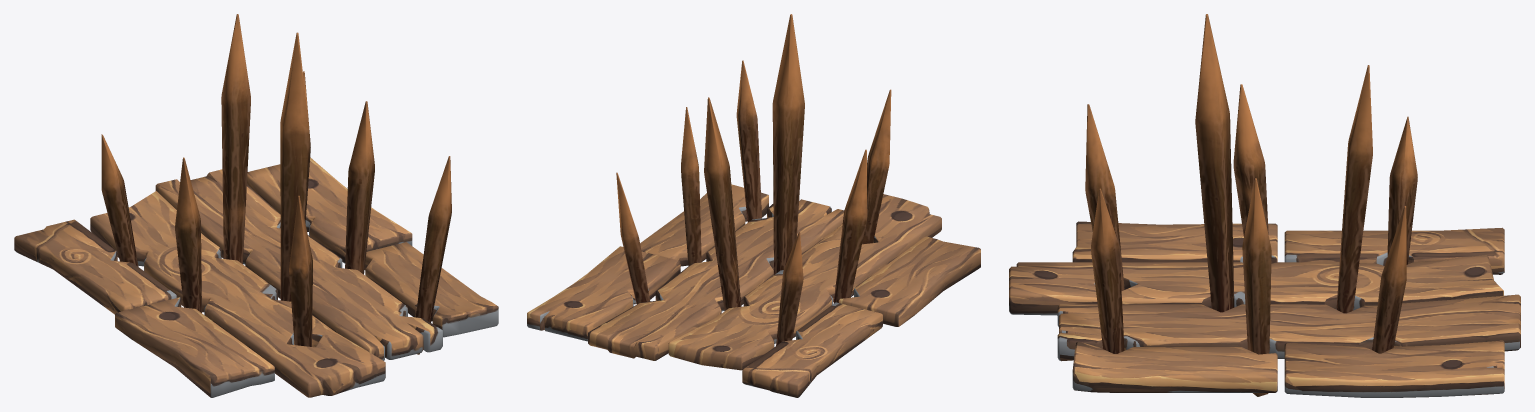
The model's file is doorSpike.glb.
The picture shows the model from 3 angles, left to right: view 1: azimuth 30°, elevation 25°; view 2: azimuth 150°, elevation 25°; view 3: azimuth 270°, elevation 25°; orthographic projection. The views are drawn at different scales.
Parts seen in each view (by area): view 1: SpikeTeap_Floor_LP.001_ST_Floor_0; view 2: SpikeTeap_Floor_LP.001_ST_Floor_0; view 3: SpikeTeap_Floor_LP.001_ST_Floor_0.
Boxes of the visible parts, box(x1,y1,x2,y2) form: SpikeTeap_Floor_LP.001_ST_Floor_0: box(14, 14, 498, 397); SpikeTeap_Floor_LP.001_ST_Floor_0: box(527, 14, 980, 397); SpikeTeap_Floor_LP.001_ST_Floor_0: box(1009, 14, 1520, 397).
Bounding box in the file's own units: 1.57 × 1.57 × 2.15.
2 materials, 2 textured.
